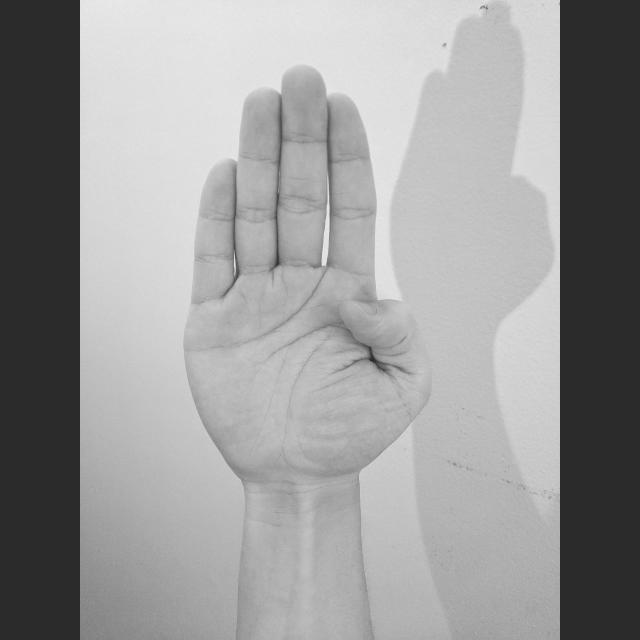B: (169, 52, 443, 502)
